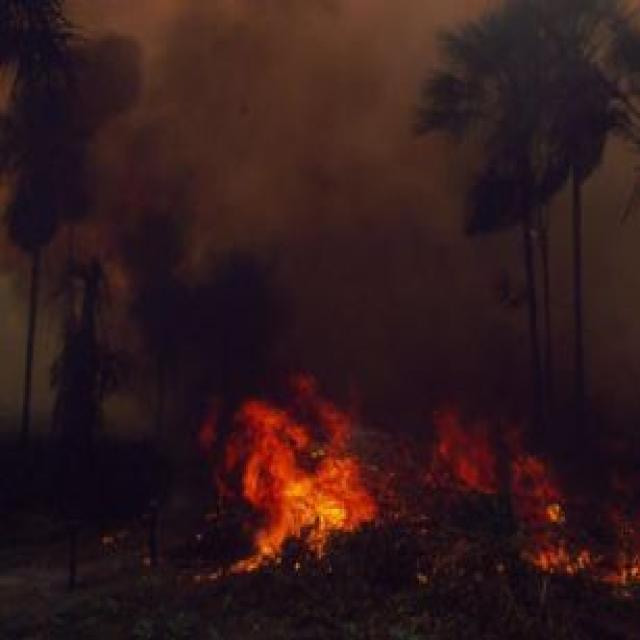Fire: (237, 396, 376, 570)
Smoke: (40, 0, 487, 405)
